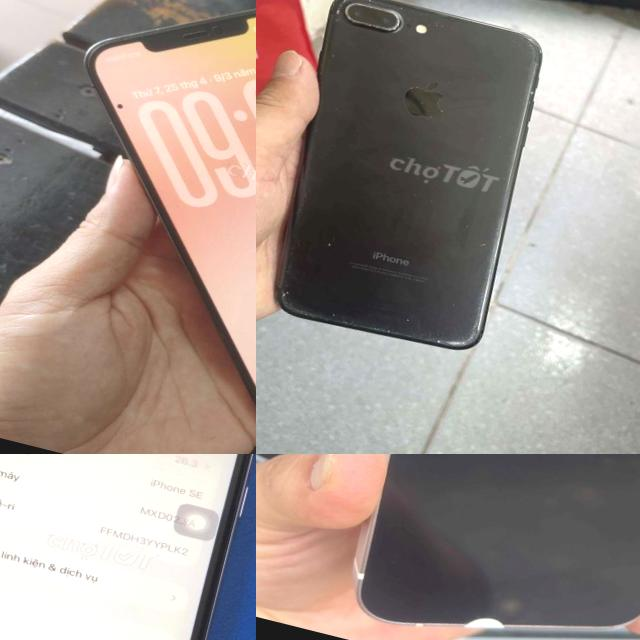scratch: (302, 304, 460, 351), (323, 0, 454, 48), (388, 69, 455, 127), (462, 256, 499, 332), (458, 210, 508, 255), (512, 29, 552, 67), (266, 277, 307, 314), (516, 64, 542, 108), (290, 180, 314, 216), (456, 328, 478, 346), (323, 44, 339, 60), (401, 310, 415, 322), (444, 296, 458, 308), (320, 238, 334, 248)
